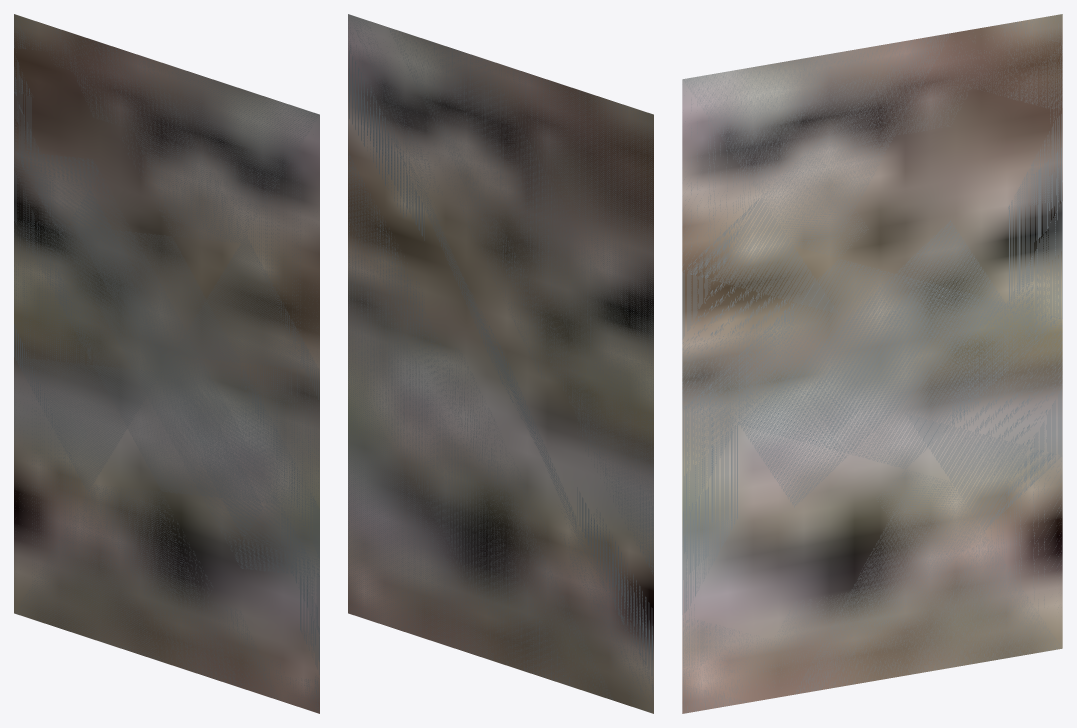
Rendered from 西庸城堡381.dae.
3 views of the same model, side by side, from view 1: azimuth 30°, elevation 25°; view 2: azimuth 210°, elevation 25°; view 3: azimuth 270°, elevation 25° (orthographic). The views are drawn at different scales.
Visible parts, largest first — view 1: SketchUp; view 2: SketchUp; view 3: SketchUp.
Boxes of the visible parts, bbox=[...] form: SketchUp: bbox=[14, 14, 319, 713]; SketchUp: bbox=[348, 14, 653, 713]; SketchUp: bbox=[682, 14, 1062, 713].
Bounding box in the file's own units: 11.12 × 27.37 × 50.39.
